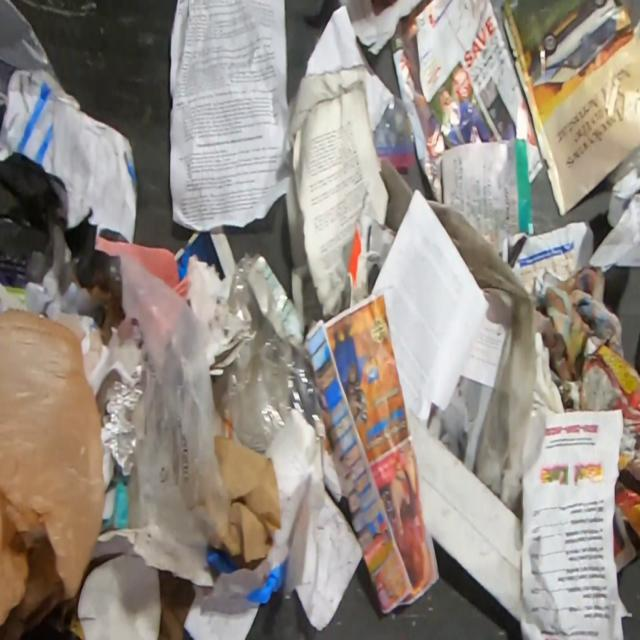cardboard: (404, 405, 524, 623)
soft_plastic: (108, 252, 231, 550), (0, 308, 106, 639), (219, 251, 328, 458), (0, 0, 67, 111), (101, 362, 147, 484), (372, 94, 417, 174)
